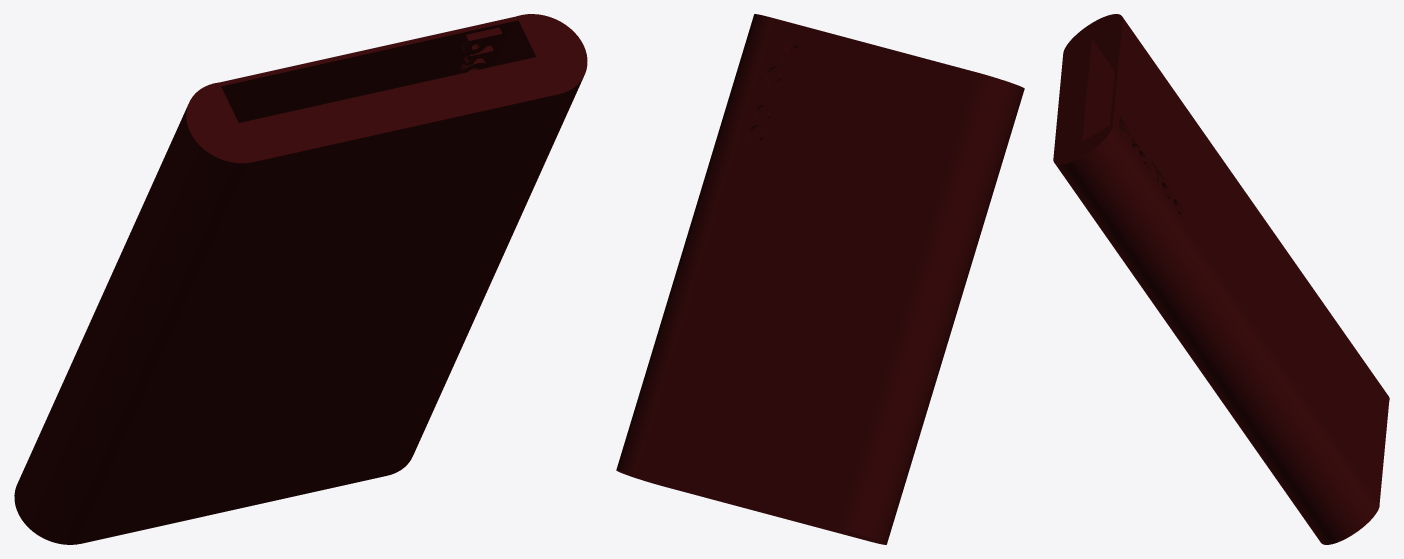
The picture shows the model from 3 angles, left to right: view 1: azimuth 30°, elevation 25°; view 2: azimuth 150°, elevation 25°; view 3: azimuth 270°, elevation 25°; orthographic projection. The views are drawn at different scales.
Parts seen in each view (by area): view 1: Wallet 03 v1; view 2: Wallet 03 v1; view 3: Wallet 03 v1.
Boxes of the visible parts, box(x1,y1,x2,y2) form: Wallet 03 v1: box(14, 14, 587, 544); Wallet 03 v1: box(616, 14, 1024, 544); Wallet 03 v1: box(1053, 14, 1389, 544).
Bounding box in the file's own units: 75.02 × 103 × 76.1.
